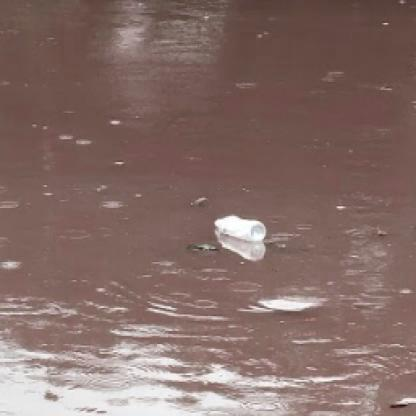Plastic: (212, 213, 268, 244)
